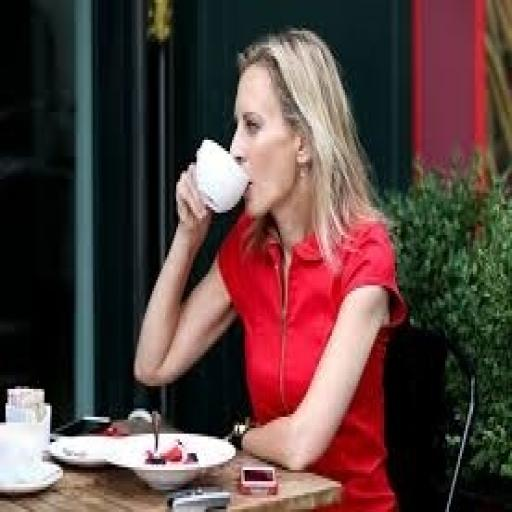sitting: (132, 25, 410, 509)
